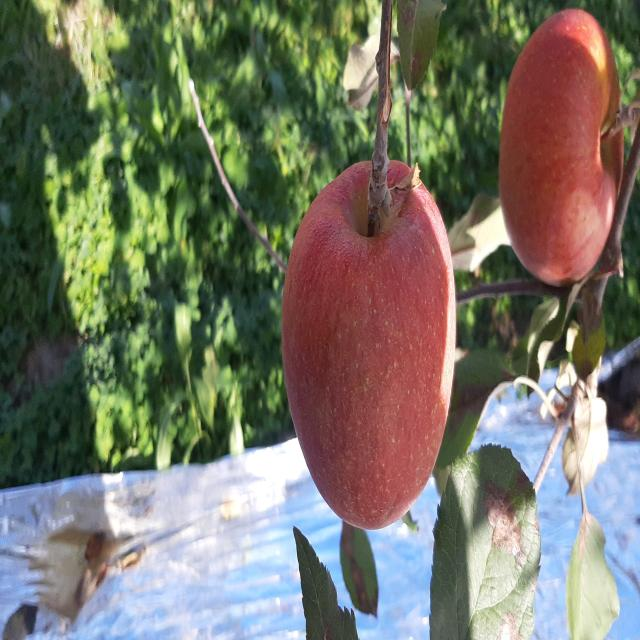fresh: (277, 144, 463, 536), (495, 1, 629, 291)
